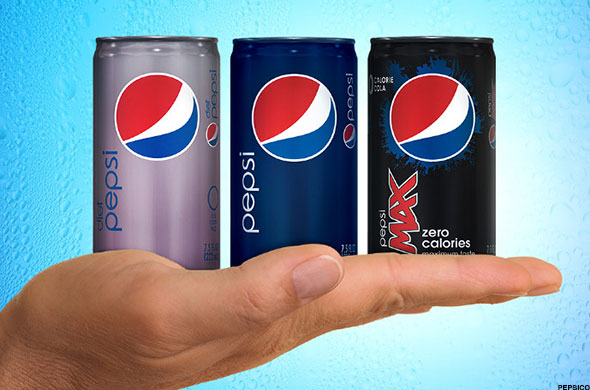pepsi: (249, 71, 335, 161), (388, 72, 474, 159), (114, 73, 198, 159), (342, 122, 355, 148), (204, 122, 217, 144), (486, 123, 496, 147)
